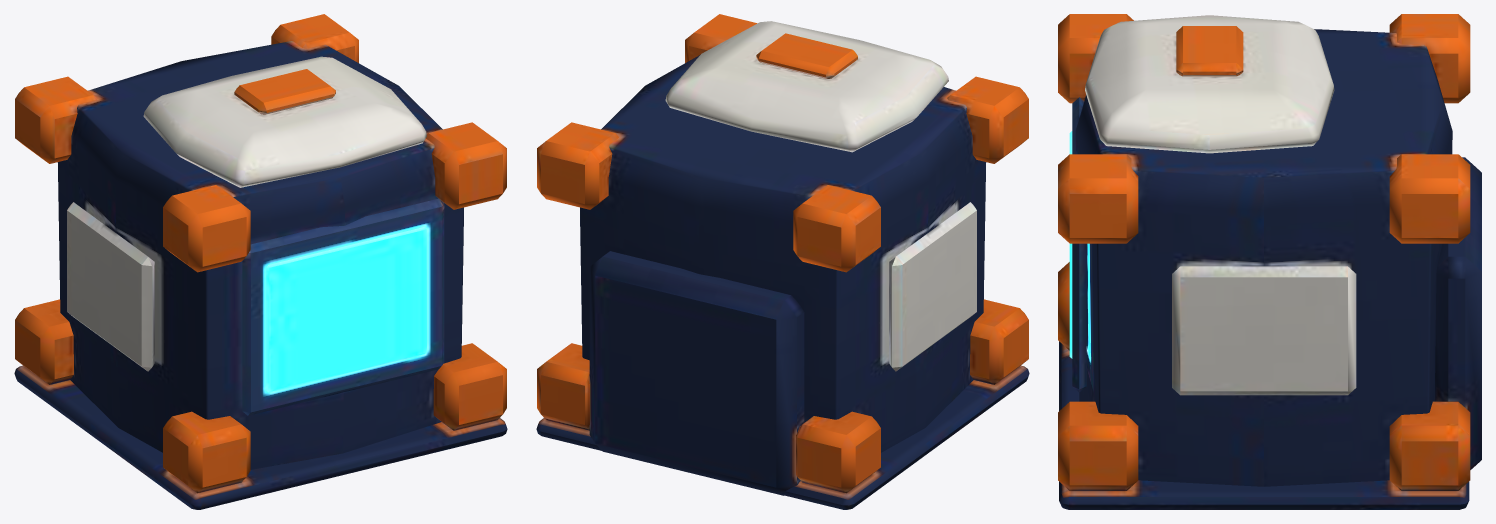
Rendered from R4X_Battery_LOD1.glb.
The picture shows the model from 3 angles, left to right: view 1: azimuth 30°, elevation 25°; view 2: azimuth 150°, elevation 25°; view 3: azimuth 270°, elevation 25°; orthographic projection. The views are drawn at different scales.
Visible parts, largest first — view 1: R4X_Battery_LOD1; view 2: R4X_Battery_LOD1; view 3: R4X_Battery_LOD1.
Boxes of the visible parts, <box> form: R4X_Battery_LOD1: <box>14,14,507,509</box>; R4X_Battery_LOD1: <box>536,14,1029,509</box>; R4X_Battery_LOD1: <box>1058,14,1481,509</box>.
Bounding box in the file's own units: 0.492 × 0.504 × 0.506.
4 materials, 4 textured.
